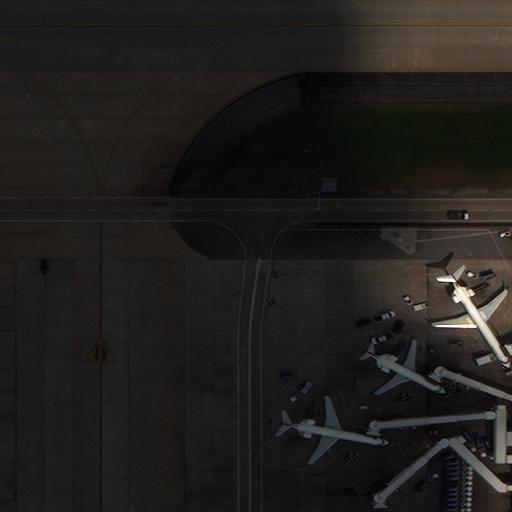Medium Civil Transport: (278, 397, 391, 465), (432, 272, 510, 369), (364, 341, 447, 396)
